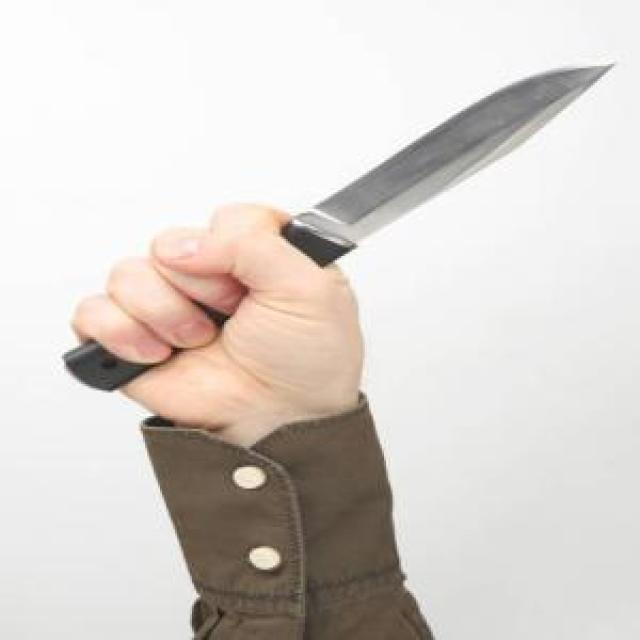knife: (62, 59, 624, 393)
